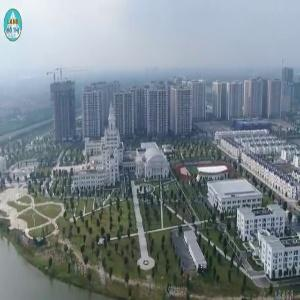drone: (182, 248, 224, 290)
